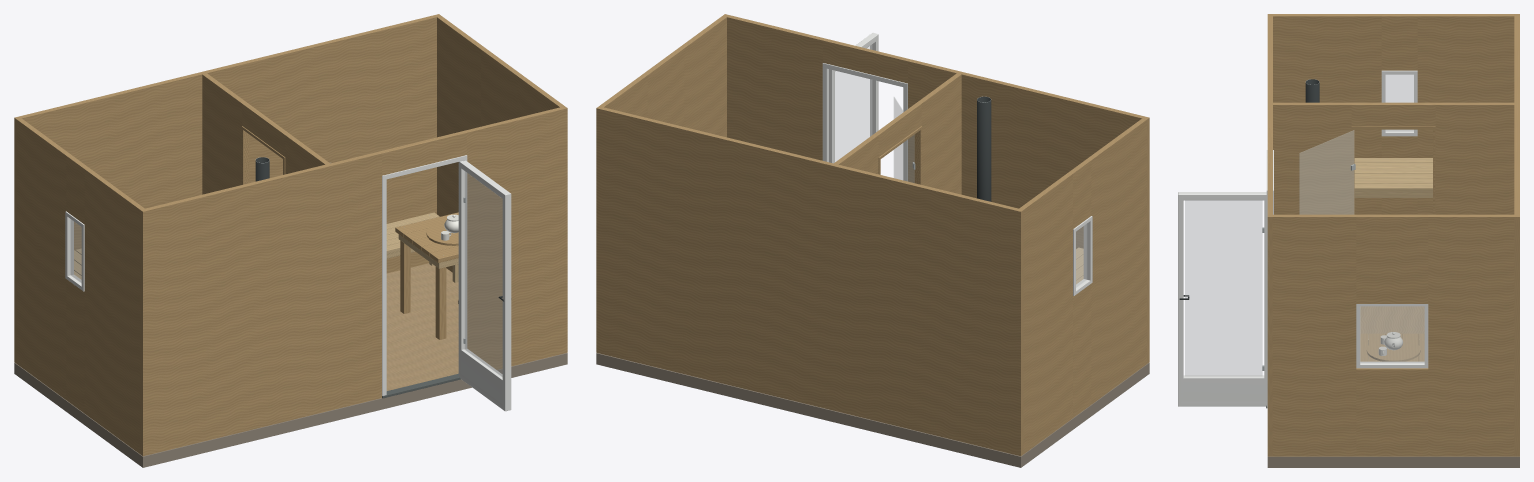
3 renders of one model, left to right at view 1: azimuth 30°, elevation 25°; view 2: azimuth 150°, elevation 25°; view 3: azimuth 270°, elevation 25°, orthographic. The views are drawn at different scales.
Visible parts, largest first — view 1: ПГ1 wall, ПГ2 wall, ПГ3 wall, DachaPar_20, Hinge_DP01-D02, ПГ4 wall, ПГ5 wall, С1 table, Door entry p1_i672, Window p1_i739, Л1 bench, Door steam p1_i671; view 2: ПГ2 wall, ПГ1 wall, ПГ3 wall, ПГ4 wall, DachaPar_20, ПГ5 wall, Hinge_DP01-D02, ASTON dimensioned stove and remote firebox, Door entry p1_i672, Window p1_i739, Hinge_DP01-D01, Door steam p1_i671; view 3: ПГ4 wall, ПГ3 wall, ПГ5 wall, Hinge_DP01-D02, DachaPar_20, Window p1_i742, Hinge_DP01-D01, ВП2 upper, ПГ1 wall, ПГ2 wall, С1 table, Window p1_i739 (+3 smaller).
Part boxes in pixels (left/top/right/bottom): ПГ1 wall: left=140, top=106, right=567, bottom=456; ПГ2 wall: left=14, top=14, right=440, bottom=363; ПГ3 wall: left=17, top=118, right=144, bottom=453; DachaPar_20: left=14, top=263, right=567, bottom=467; Hinge_DP01-D02: left=458, top=160, right=511, bottom=411; ПГ4 wall: left=437, top=16, right=564, bottom=272; ПГ5 wall: left=202, top=73, right=329, bottom=194; С1 table: left=395, top=212, right=458, bottom=339; Door entry p1_i672: left=382, top=155, right=467, bottom=398; Window p1_i739: left=65, top=211, right=84, bottom=291; Л1 bench: left=386, top=212, right=458, bottom=282; Door steam p1_i671: left=241, top=126, right=285, bottom=184; ПГ2 wall: left=596, top=106, right=1023, bottom=456; ПГ1 wall: left=723, top=14, right=1149, bottom=363; ПГ3 wall: left=1019, top=118, right=1146, bottom=453; ПГ4 wall: left=599, top=16, right=726, bottom=137; DachaPar_20: left=596, top=353, right=1149, bottom=467; ПГ5 wall: left=834, top=73, right=961, bottom=194; Hinge_DP01-D02: left=829, top=33, right=878, bottom=163; ASTON dimensioned stove and remote firebox: left=977, top=96, right=991, bottom=201; Door entry p1_i672: left=822, top=63, right=907, bottom=181; Window p1_i739: left=1073, top=216, right=1092, bottom=295; Hinge_DP01-D01: left=894, top=97, right=914, bottom=182; Door steam p1_i671: left=878, top=126, right=922, bottom=184; ПГ4 wall: left=1273, top=214, right=1514, bottom=456; ПГ3 wall: left=1273, top=14, right=1514, bottom=214; ПГ5 wall: left=1273, top=102, right=1514, bottom=214; Hinge_DP01-D02: left=1178, top=192, right=1266, bottom=406; DachaPar_20: left=1267, top=306, right=1519, bottom=467; Window p1_i742: left=1356, top=304, right=1428, bottom=368; Hinge_DP01-D01: left=1299, top=130, right=1355, bottom=214; ВП2 upper: left=1354, top=158, right=1432, bottom=191; ПГ1 wall: left=1267, top=14, right=1272, bottom=456; ПГ2 wall: left=1514, top=14, right=1519, bottom=456; С1 table: left=1360, top=332, right=1424, bottom=361; Window p1_i739: left=1381, top=70, right=1417, bottom=136.
Bounding box in the file's own units: 4.01 × 2.31 × 2.84.
Materials: 27 (9 with a texture image).
